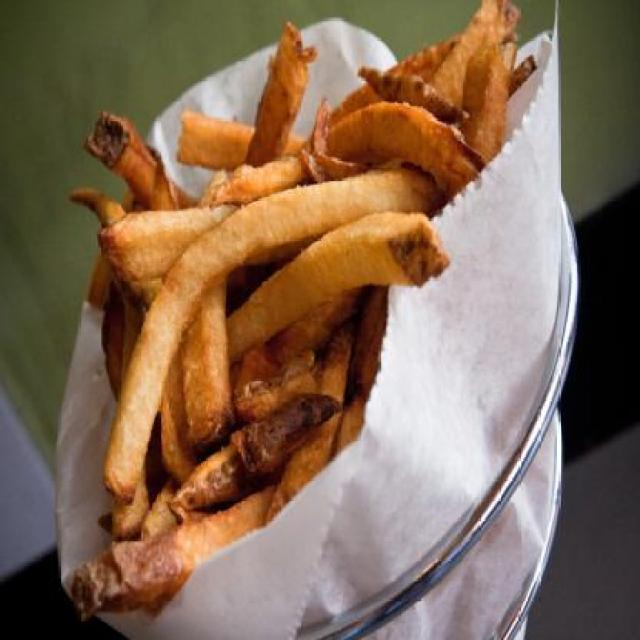French fries: (76, 66, 453, 591)
